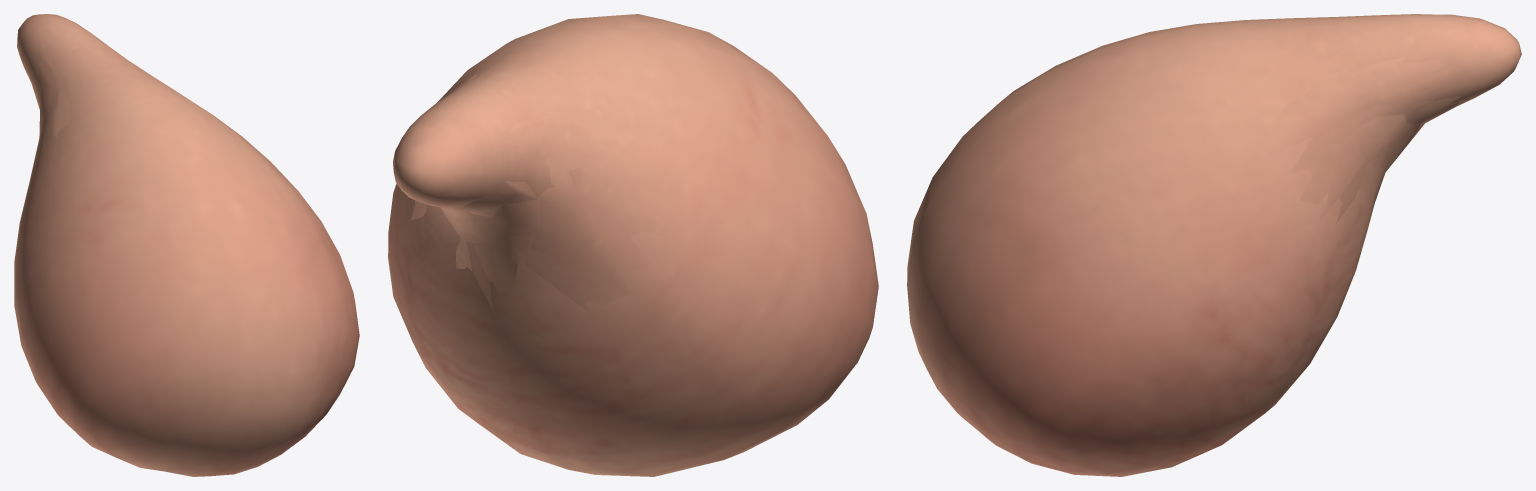
The model's file is Urinary Bladder.fbx.
3 views of the same model, side by side, from view 1: azimuth 30°, elevation 25°; view 2: azimuth 150°, elevation 25°; view 3: azimuth 270°, elevation 25° (orthographic). The views are drawn at different scales.
Parts seen in each view (by area): view 1: Urinary Bladder high, Urinary Bladder; view 2: Urinary Bladder high, Urinary Bladder, Urinary Bladder low; view 3: Urinary Bladder high, Urinary Bladder, Urinary Bladder low.
Part boxes in pixels (x1,y1,x2,y2): Urinary Bladder high: [14, 14, 359, 476]; Urinary Bladder: [27, 51, 331, 407]; Urinary Bladder high: [388, 14, 878, 476]; Urinary Bladder: [405, 75, 667, 316]; Urinary Bladder low: [410, 153, 598, 292]; Urinary Bladder high: [907, 14, 1521, 476]; Urinary Bladder: [959, 49, 1460, 407]; Urinary Bladder low: [1335, 110, 1427, 224].
Size of the model in its own units: 2.2 by 2.47 by 3.17.
1 material, 1 textured.
